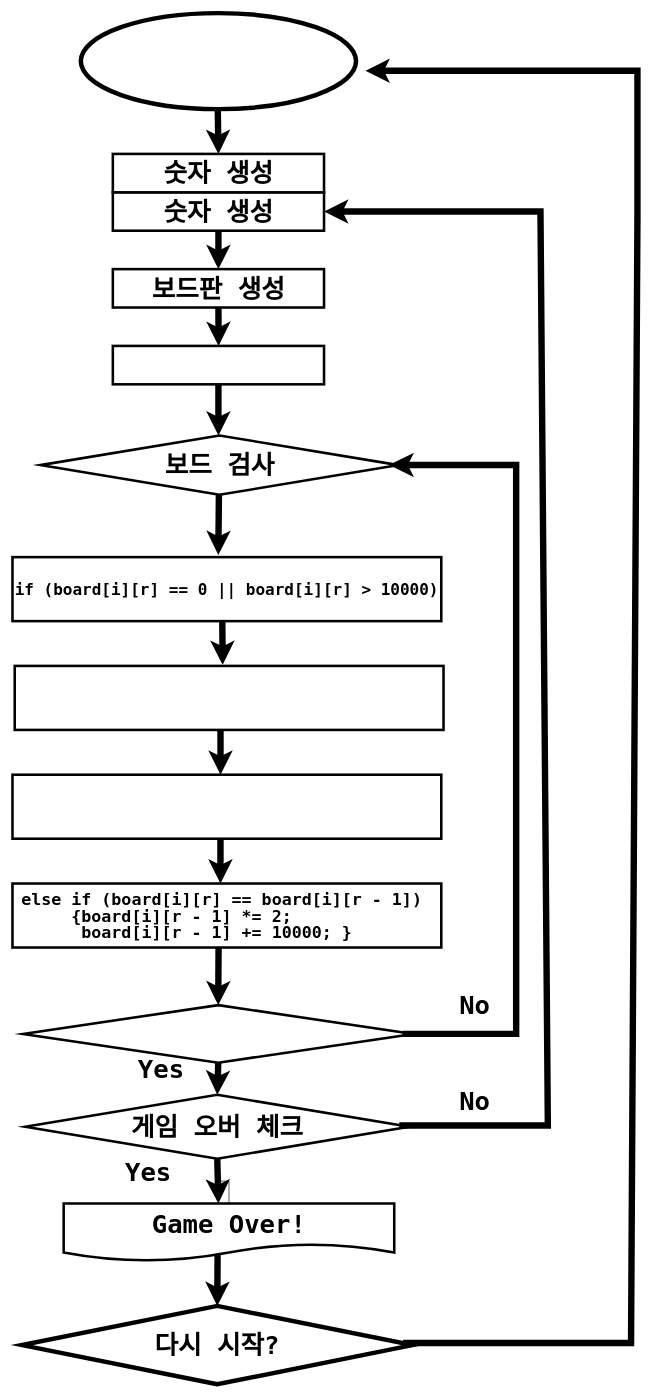
This 657x1398 diagram has some shape labels left out. Each missing label, with the box of its shape:
Game start!: (78, 11, 358, 111)
if (board[i][r - 1] != 0 && board[i][r - 1] != board[i][r]): (13, 664, 444, 731)
if (board[i][r - 1] == 0) board[i][r - 1] = board[i][r];: (11, 773, 442, 840)
Move > 0: (21, 1004, 414, 1064)
키입력: (111, 344, 325, 385)
